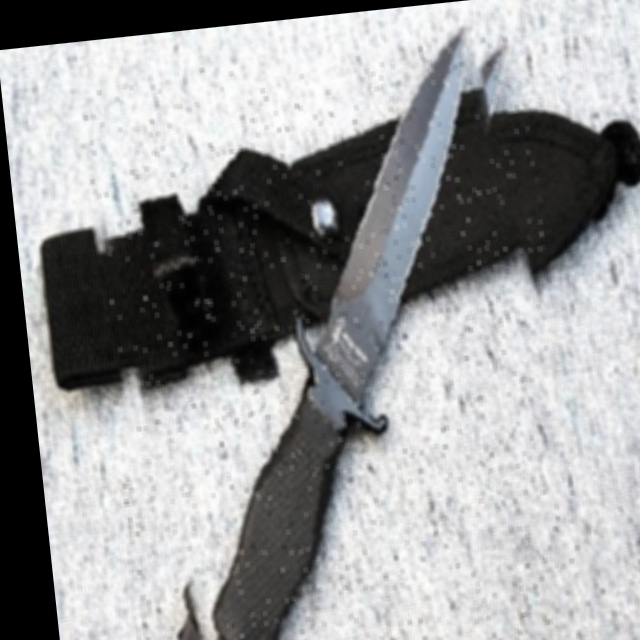Sharp-Object: (82, 33, 591, 640)
